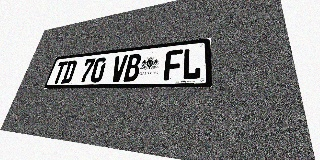0: (89, 57, 107, 83)
7: (78, 58, 96, 83)
B: (123, 53, 142, 82)
D: (61, 60, 78, 84)
F: (163, 49, 183, 80)
L: (182, 47, 201, 80)
T: (51, 61, 68, 84)
V: (110, 55, 128, 82)
